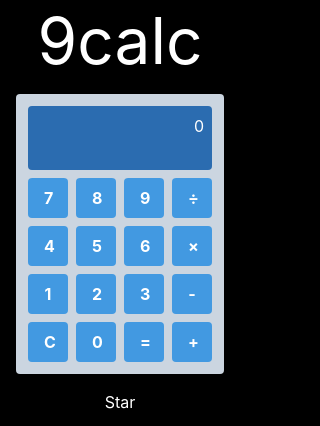
Test case: 9calc › can add numbers together
Click the button "1" at (48, 294), box x1=28 y1=274 x2=68 y2=314
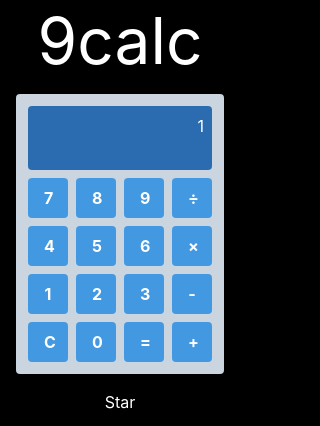
Check: the text with test id "input" reads "1", box x1=198 y1=116 x2=205 y2=136
Click the button "+" at (192, 342), box x1=172 y1=322 x2=212 y2=362
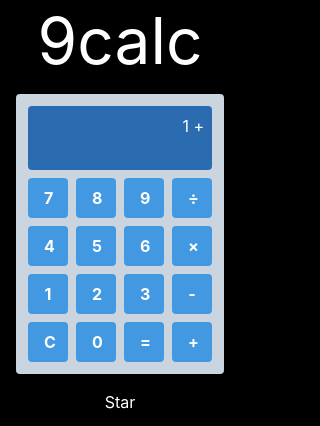
Check: the text with test id "input" reads "1 +", box x1=182 y1=116 x2=204 y2=136
Click the button "2" at (96, 294), box x1=76 y1=274 x2=116 y2=314
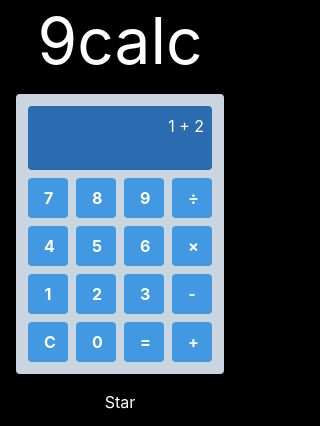
Check: the text with test id "input" reads "1 + 2", box x1=168 y1=116 x2=204 y2=136
Click the button "=" at (144, 342), box x1=124 y1=322 x2=164 y2=362
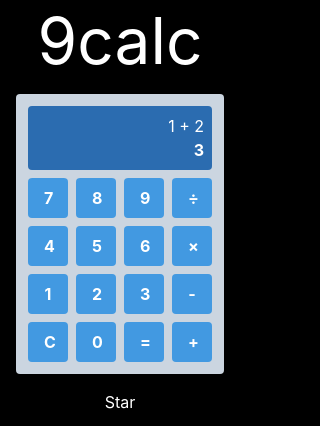
Check: the text with test id "output" reads "3", box x1=194 y1=140 x2=204 y2=160
